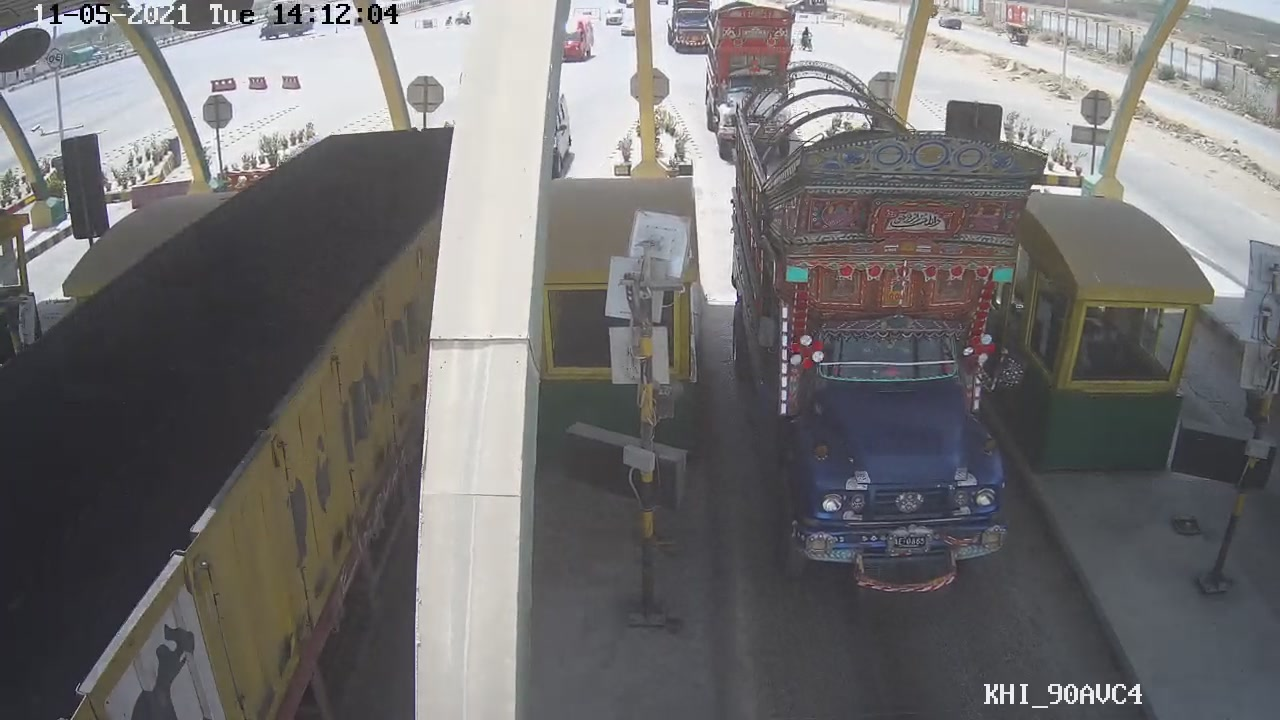F5: (706, 92, 1058, 593)
